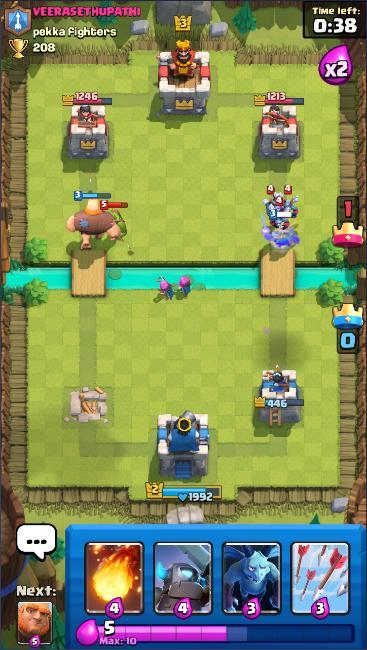ally_archer: (154, 273, 177, 302), (173, 273, 194, 299)
ally_giant: (66, 189, 125, 251)
ally_knight: (259, 210, 302, 251)
enemy_brawler: (98, 198, 130, 243)
enemy_minion: (261, 183, 286, 217), (267, 197, 292, 231), (277, 185, 301, 220)
